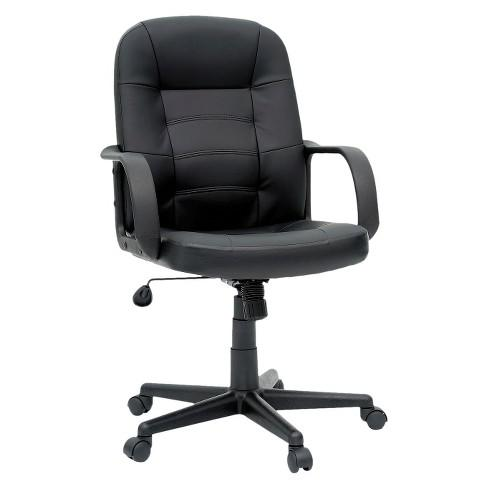chair: (89, 9, 404, 484)
